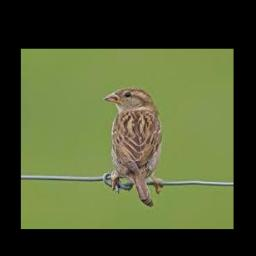Sparrow: (103, 86, 161, 206)
